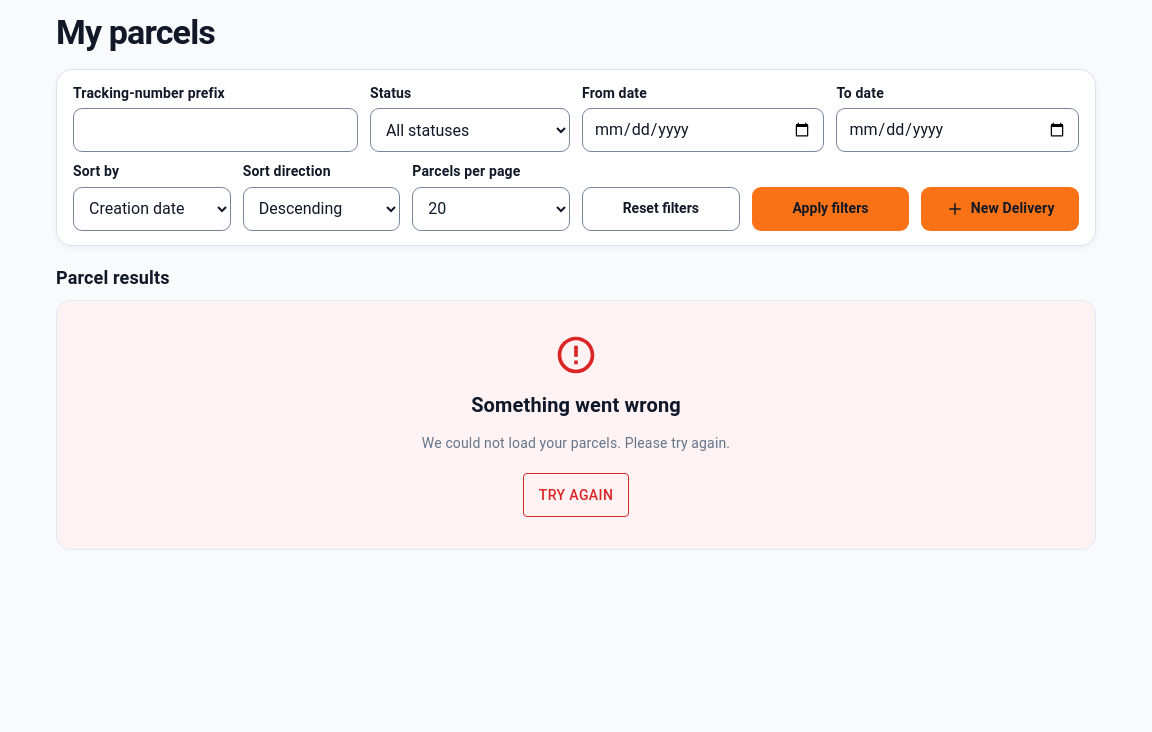
Test: TST-040 my parcels › resets all filters and retries failures without showing raw errors
Check: the message is shown, box [56, 300, 1096, 550]
Click the button "Try Again" at [576, 495], box [523, 473, 629, 517]
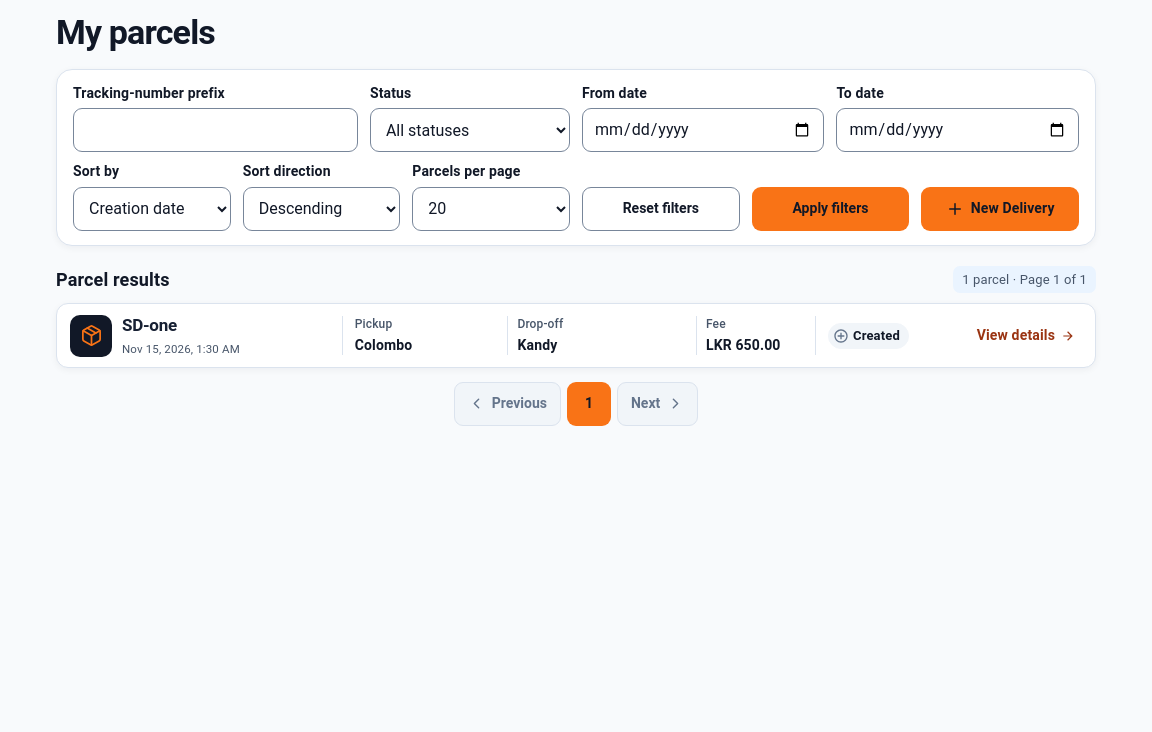
Check: the link "SD-one" is shown, box [122, 316, 177, 336]
Type "SD-AB" into the field labelled "Tracking-number prefix" at [215, 130], box [73, 108, 358, 152]
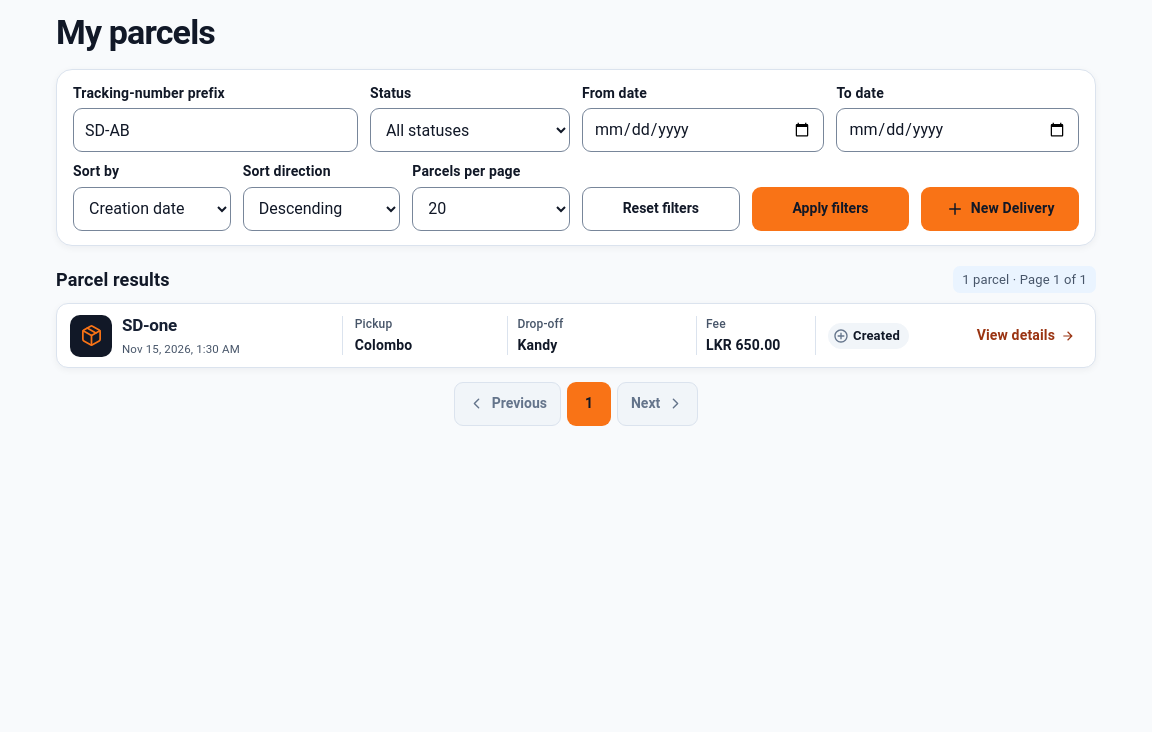
Click the button "Reset filters" at [661, 209], box [582, 187, 740, 231]
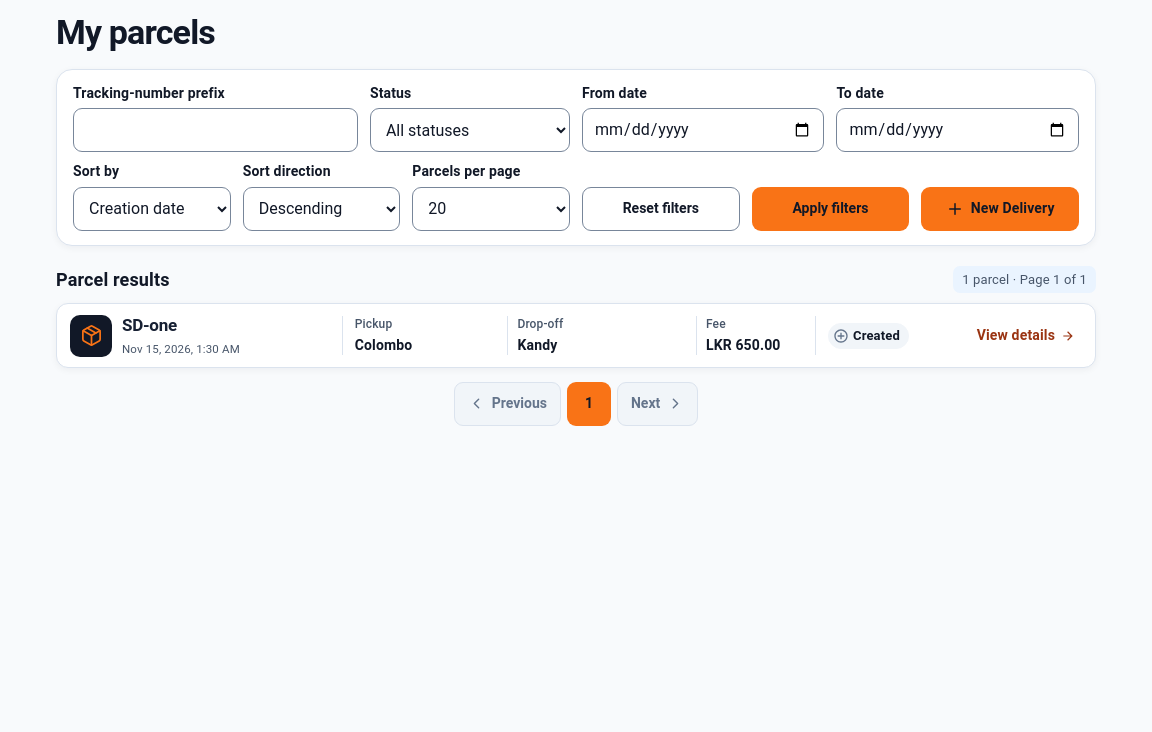
Check: the field labelled "Tracking-number prefix" is empty, box [73, 108, 358, 152]
